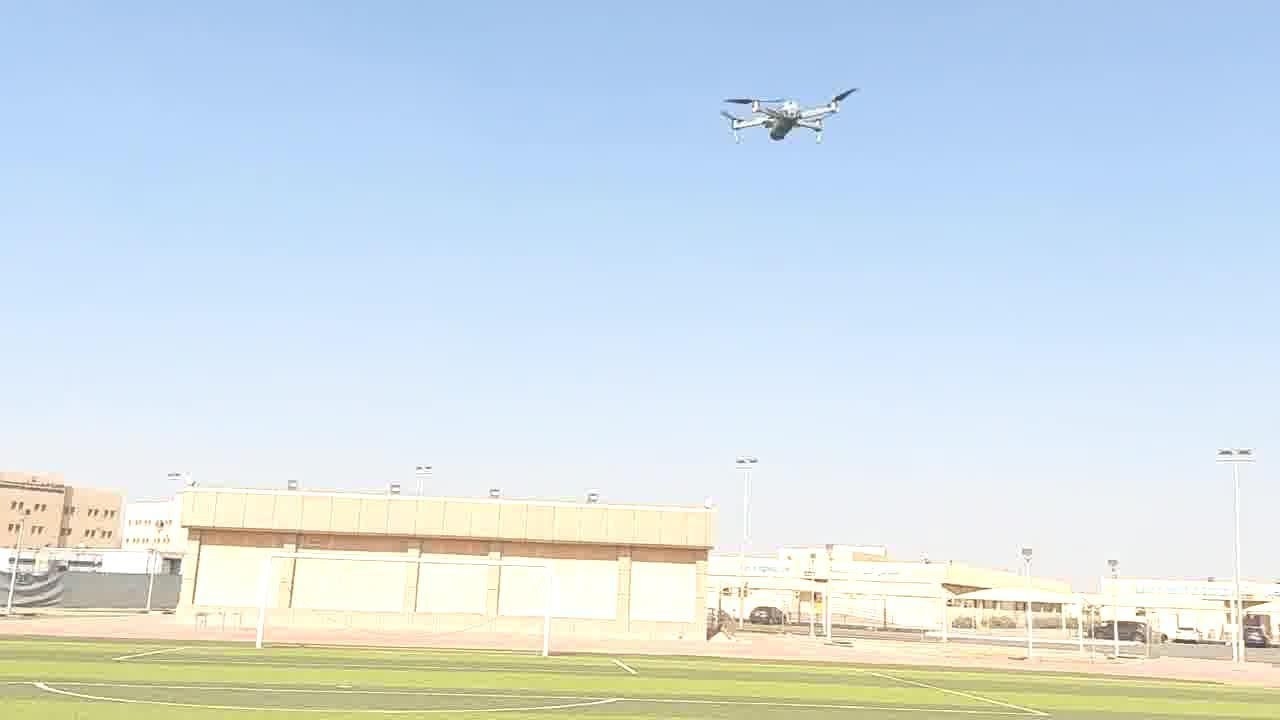drone: (717, 86, 862, 146)
